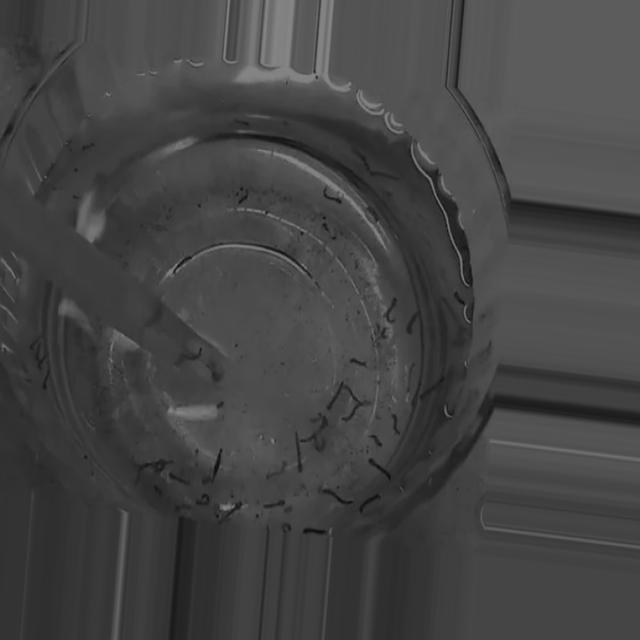larvas: (302, 412, 330, 449), (322, 484, 354, 507), (367, 454, 392, 478), (342, 402, 369, 423), (211, 444, 224, 482), (358, 492, 382, 512), (329, 381, 345, 410), (423, 380, 446, 399), (294, 429, 304, 472), (404, 356, 418, 386), (221, 500, 242, 520), (384, 297, 398, 324), (324, 184, 344, 202), (157, 453, 173, 473), (173, 252, 190, 270), (269, 462, 286, 480), (135, 460, 152, 477), (186, 343, 205, 358), (412, 384, 423, 408), (344, 381, 356, 402), (169, 474, 190, 486), (454, 288, 466, 309), (42, 364, 52, 389), (37, 349, 49, 369), (406, 312, 418, 332), (196, 493, 212, 508), (350, 356, 367, 369), (313, 438, 327, 453), (234, 116, 251, 128), (368, 434, 382, 448), (392, 416, 402, 434), (30, 331, 41, 347), (303, 527, 327, 534), (80, 142, 96, 152), (263, 501, 285, 508), (34, 342, 44, 357), (176, 501, 190, 511), (284, 519, 293, 532)
